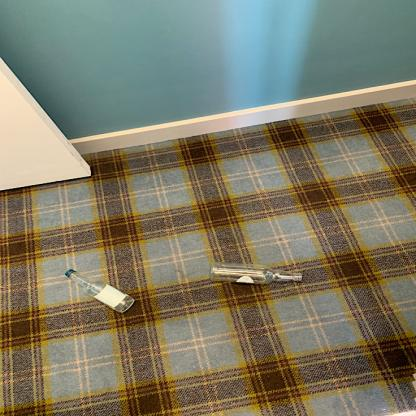trash: (64, 269, 138, 314), (209, 262, 302, 286)
